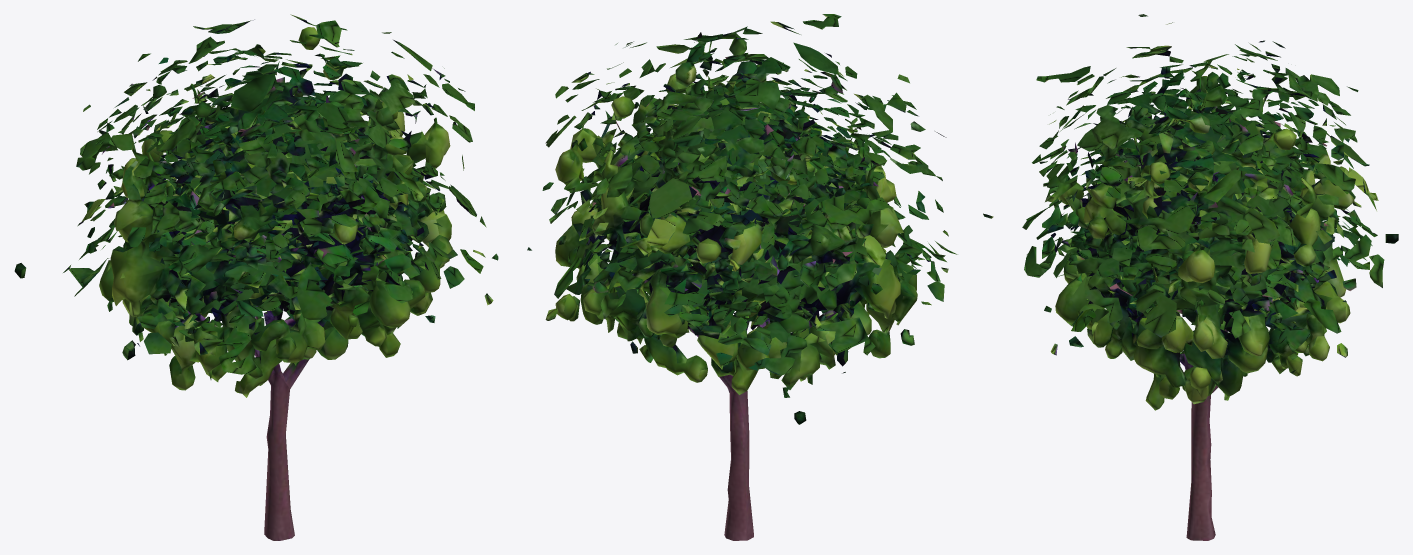
Rendered from amla.glb.
The picture shows the model from 3 angles, left to right: view 1: azimuth 30°, elevation 25°; view 2: azimuth 150°, elevation 25°; view 3: azimuth 270°, elevation 25°; orthographic projection. The views are drawn at different scales.
Parts seen in each view (by area): view 1: world; view 2: world; view 3: world.
Boxes of the visible parts, x1=… form: world: x1=14, y1=14, x2=498, y2=540; world: x1=527, y1=14, x2=993, y2=540; world: x1=1022, y1=14, x2=1398, y2=540.
Size of the model in its own units: 1.45 by 1.94 by 1.39.
Materials: 1 (1 with a texture image).
